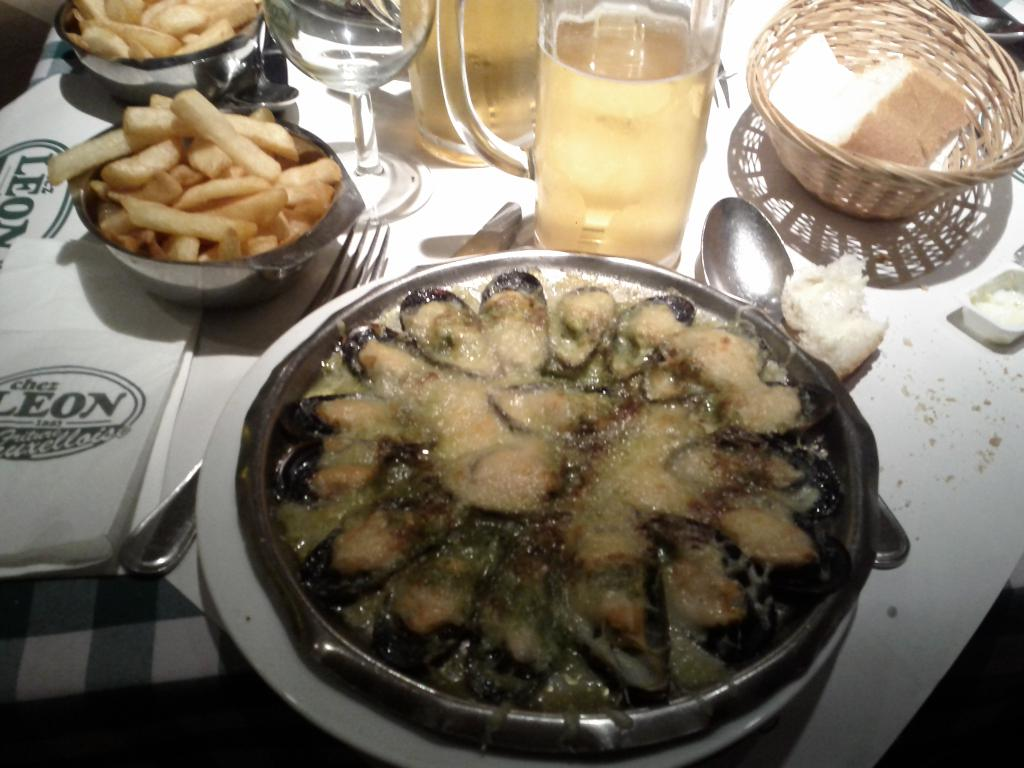French fries: (49, 83, 359, 296), (65, 0, 264, 61)
